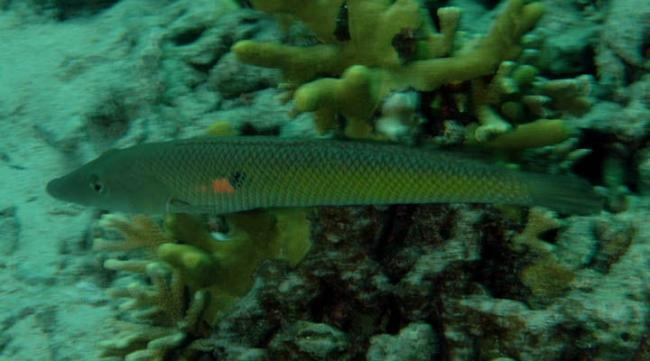fish: (48, 136, 591, 215)
